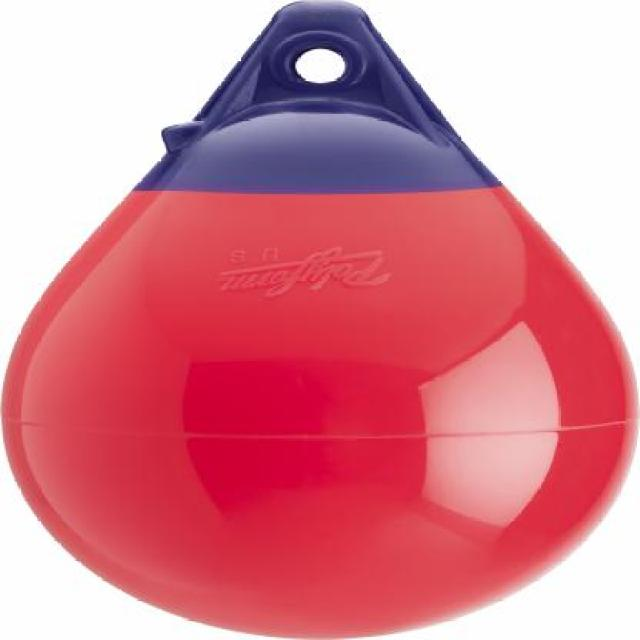a: (2, 1, 639, 639), (83, 1, 549, 196)
